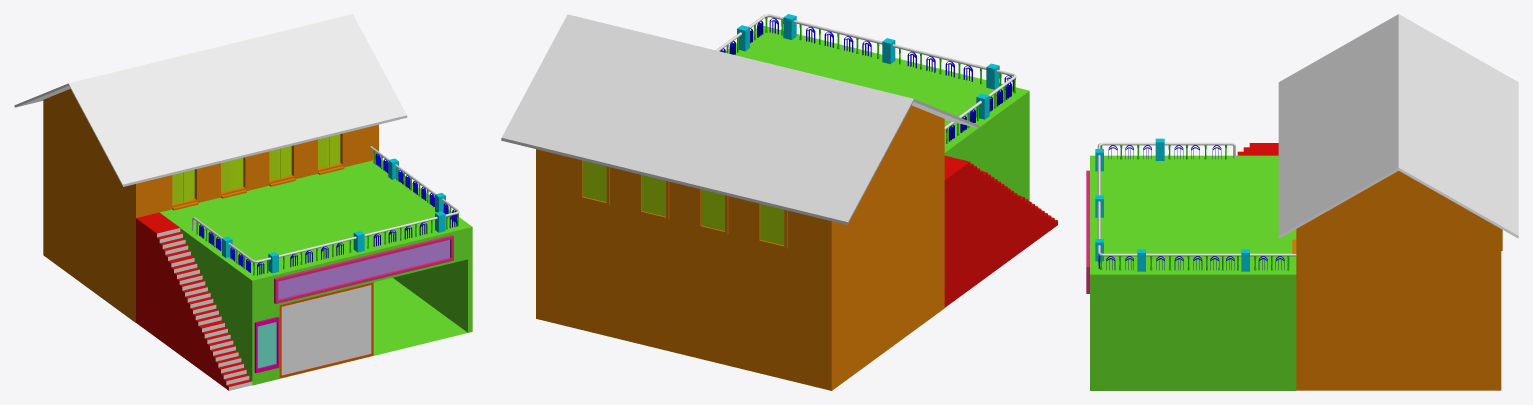
The model's file is SweetShopfull.fbx.
3 views of the same model, side by side, from view 1: azimuth 30°, elevation 25°; view 2: azimuth 150°, elevation 25°; view 3: azimuth 270°, elevation 25° (orthographic). The views are drawn at different scales.
Parts seen in each view (by area): view 1: Cube.107, Cube.087, Cube.099, Cube.125, Cube.098, Cube.096, Cube.097, Cylinder.050, Cube.108, Cube.109, Cube.111, Cube.110; view 2: Cube.099, Cube.107, Cube.087, Cube.125, Cylinder.050; view 3: Cube.087, Cube.099, Cube.107, Cylinder.050, Cube.096, Cube.125.
Part boxes in pixels (box(x1,y1,x2,y2)): Cube.107: box(14, 14, 407, 186); Cube.087: box(160, 160, 472, 385); Cube.099: box(43, 89, 378, 322); Cube.125: box(136, 212, 252, 390); Cube.098: box(279, 282, 373, 378); Cube.096: box(274, 235, 453, 303); Cube.097: box(254, 316, 279, 373); Cylinder.050: box(192, 146, 459, 262); Cube.108: box(318, 134, 340, 168); Cube.109: box(172, 169, 194, 203); Cube.111: box(269, 146, 291, 180); Cube.110: box(221, 158, 243, 191); Cube.099: box(536, 105, 944, 390); Cube.107: box(501, 14, 979, 224); Cube.087: box(725, 26, 1029, 201); Cube.125: box(944, 155, 1057, 307); Cylinder.050: box(716, 14, 1016, 129); Cube.087: box(1090, 155, 1296, 390); Cube.099: box(1292, 171, 1502, 390); Cube.107: box(1278, 14, 1518, 238); Cylinder.050: box(1097, 142, 1296, 256); Cube.096: box(1086, 170, 1089, 293); Cube.125: box(1237, 143, 1278, 155).
Size of the model in its own units: 2433 by 1725 by 2890.
